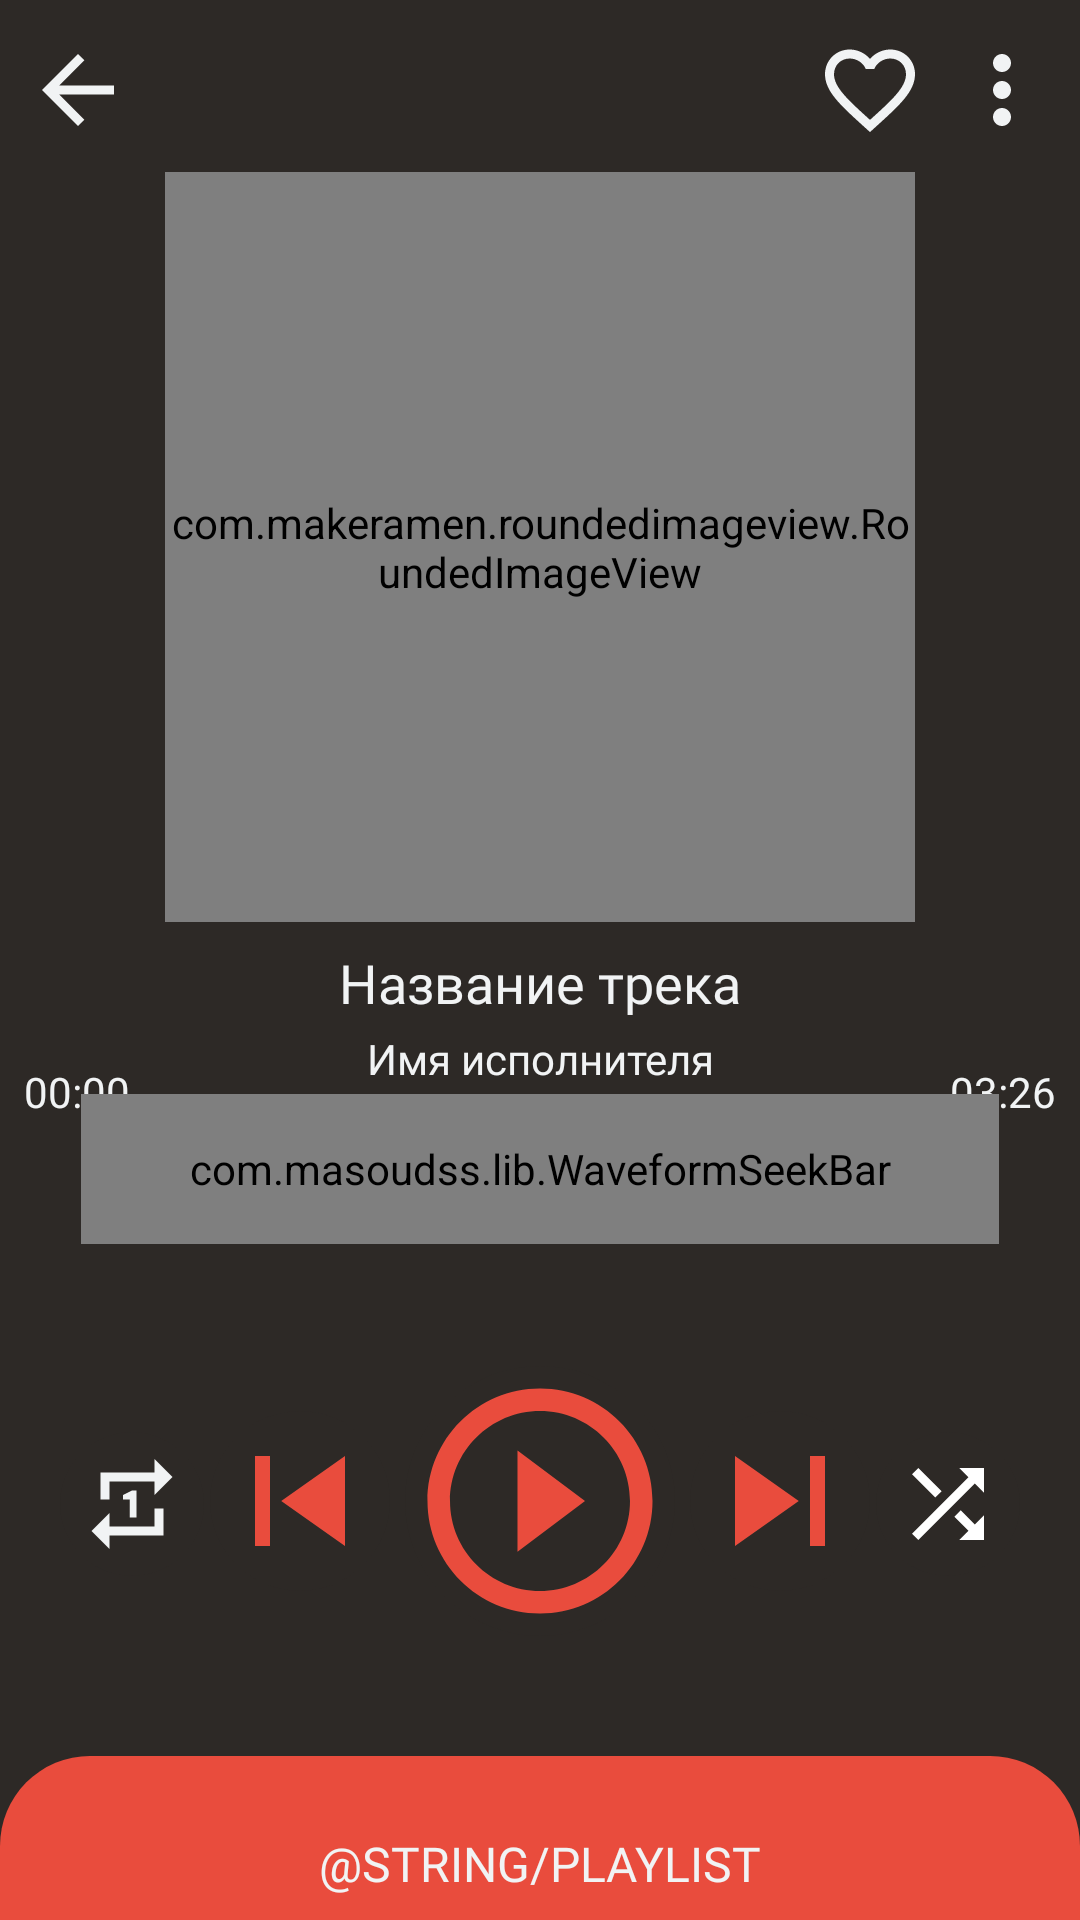

Icon click points for this 1080 × 1920 phone screenshot, format [x,y]:
back: [78,90]
like: [870,90]
next: [780,1501]
options: [1002,90]
play: [540,1501]
previous: [300,1501]
repeat: [132,1504]
shuffle: [948,1504]
